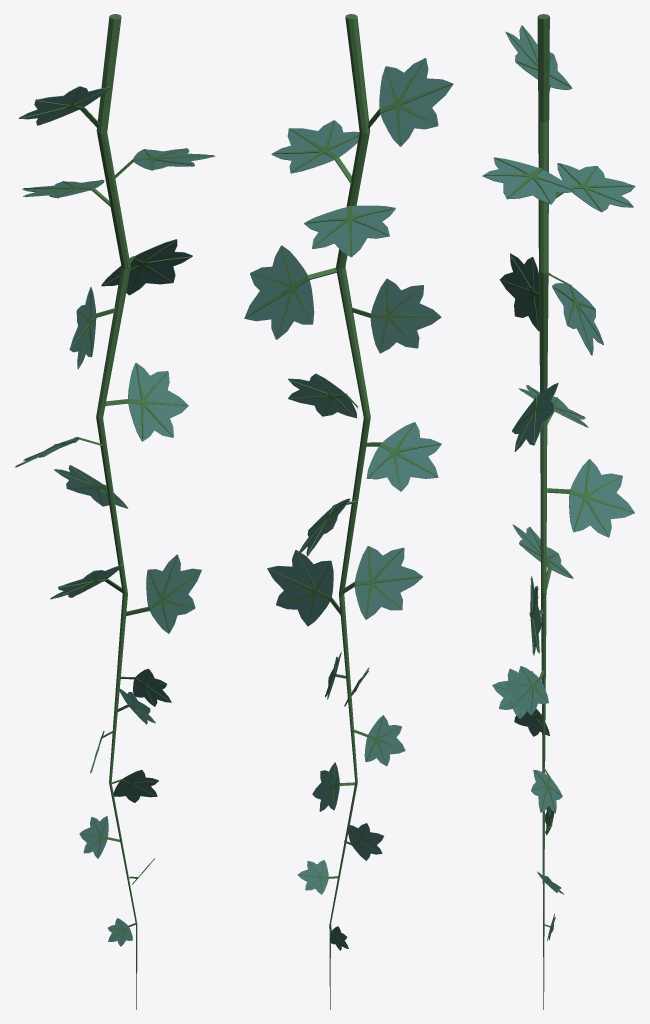
Rendered from 46abf99f-919c-4585-a579-d807faa34c65.glb.
3 renders of one model, left to right at view 1: azimuth 30°, elevation 25°; view 2: azimuth 150°, elevation 25°; view 3: azimuth 270°, elevation 25°, orthographic.
Visible parts, largest first — view 1: Node; view 2: Node; view 3: Node.
Part boxes in pixels (left/top/right/bottom): Node: left=14, top=14, right=215, bottom=1009; Node: left=244, top=14, right=453, bottom=1009; Node: left=482, top=14, right=635, bottom=1009.
Bounding box in the file's own units: 2.11 × 10.97 × 1.55.
